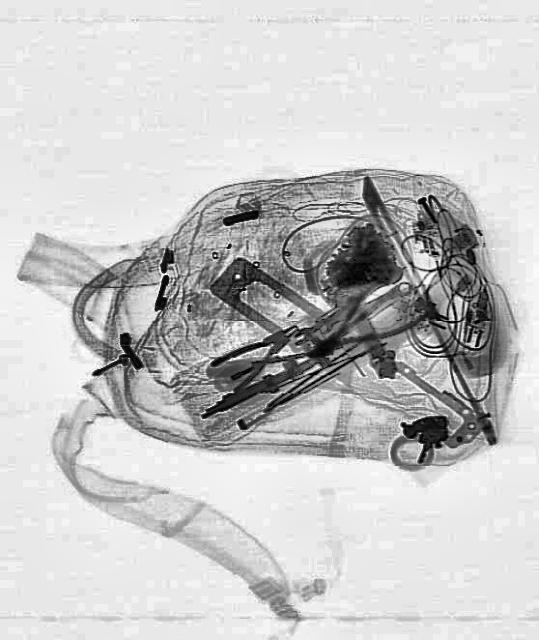Pliers: (299, 274, 427, 374), (209, 310, 307, 398)
Wrench: (316, 278, 414, 334), (290, 297, 366, 345)
